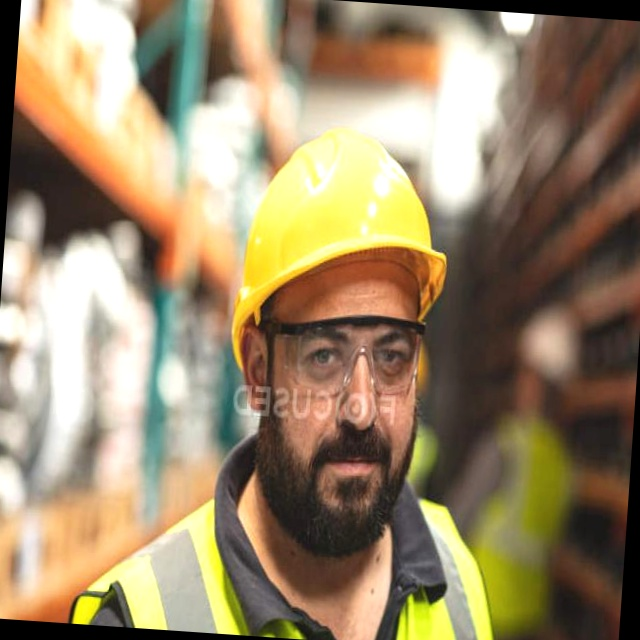goggles: (210, 308, 379, 397)
helmet: (192, 120, 407, 383)
vest: (131, 476, 539, 640)
